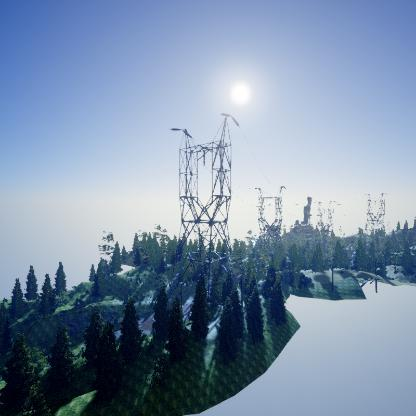tower: (167, 110, 243, 299), (253, 183, 288, 263)
